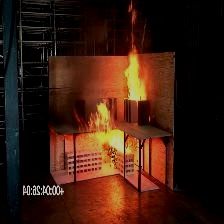fire: (110, 1, 156, 115), (83, 92, 135, 180)
